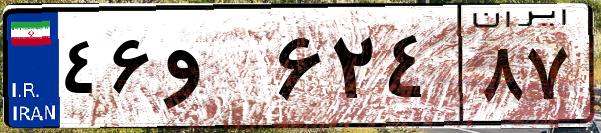2: (330, 28, 385, 110)
4: (385, 28, 445, 110), (57, 26, 110, 100)
6: (270, 28, 330, 110), (110, 28, 158, 98)
7: (525, 38, 570, 115)
8: (475, 38, 525, 113)
و: (158, 20, 270, 120)
